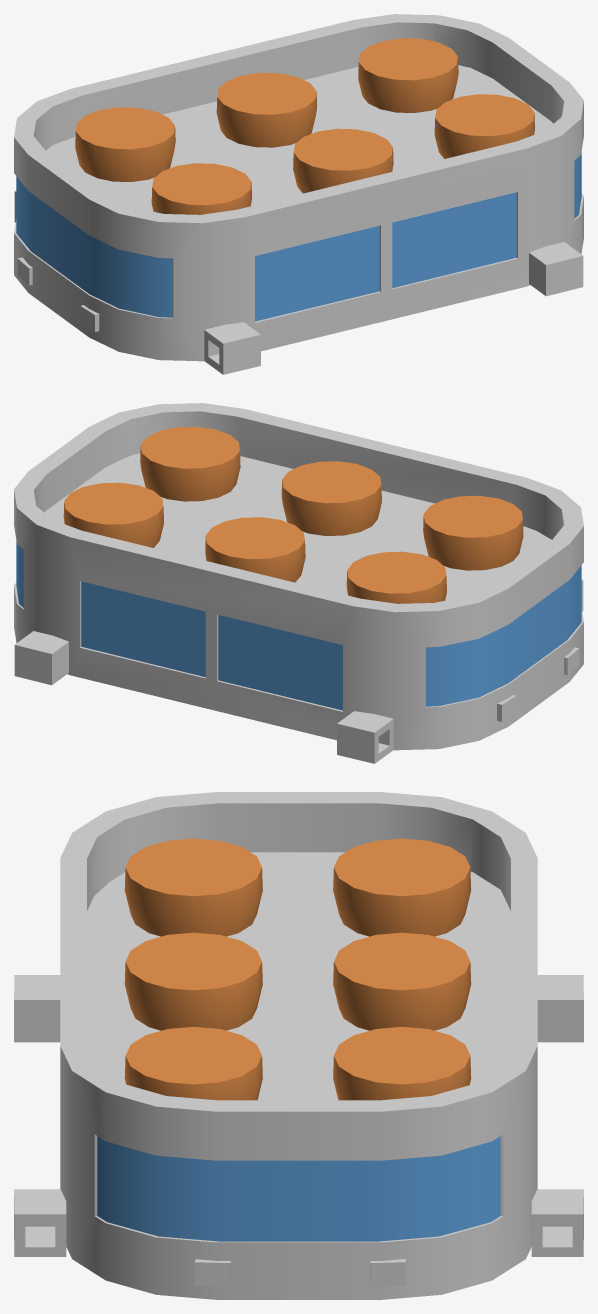
The picture shows the model from 3 angles, top to bottom: view 1: azimuth 30°, elevation 25°; view 2: azimuth 150°, elevation 25°; view 3: azimuth 270°, elevation 25°; orthographic projection. The views are drawn at different scales.
Parts seen in each view (by area): view 1: Cube.033; view 2: Cube.033; view 3: Cube.033.
Boxes of the visible parts, bbox=[...] form: Cube.033: bbox=[14, 14, 583, 374]; Cube.033: bbox=[14, 403, 583, 763]; Cube.033: bbox=[14, 792, 583, 1299].
Size of the model in its own units: 21.25 by 5.76 by 15.8.
